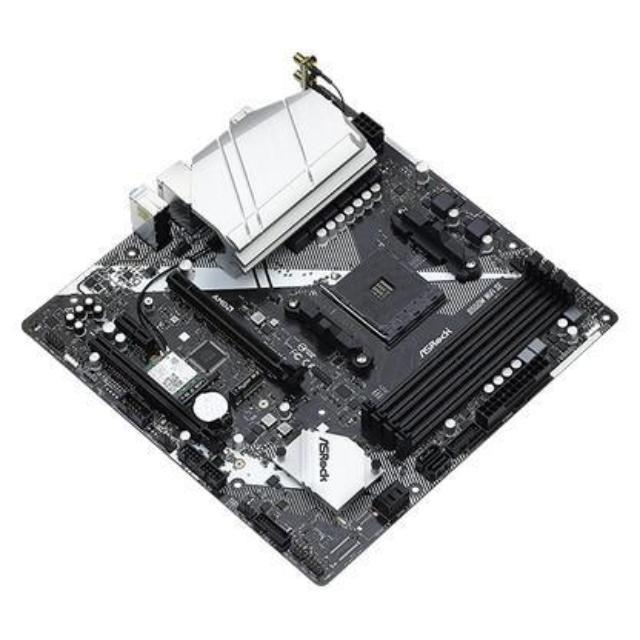Mainboard: (12, 44, 623, 584)
